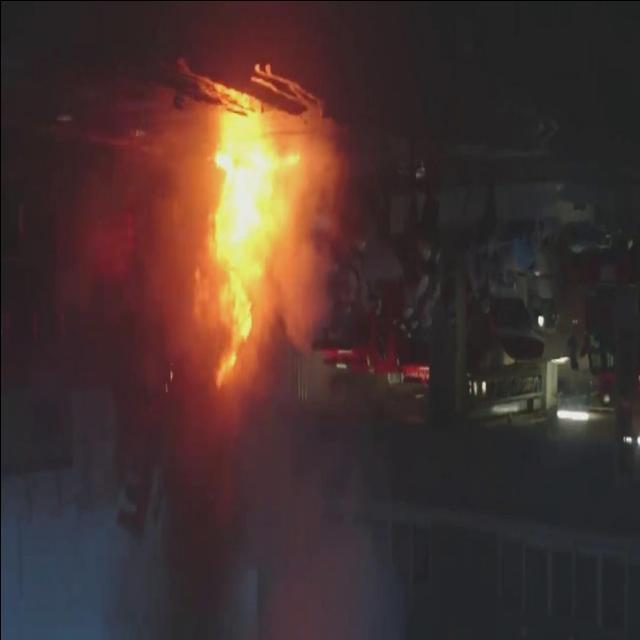Fire: (208, 147, 310, 386)
